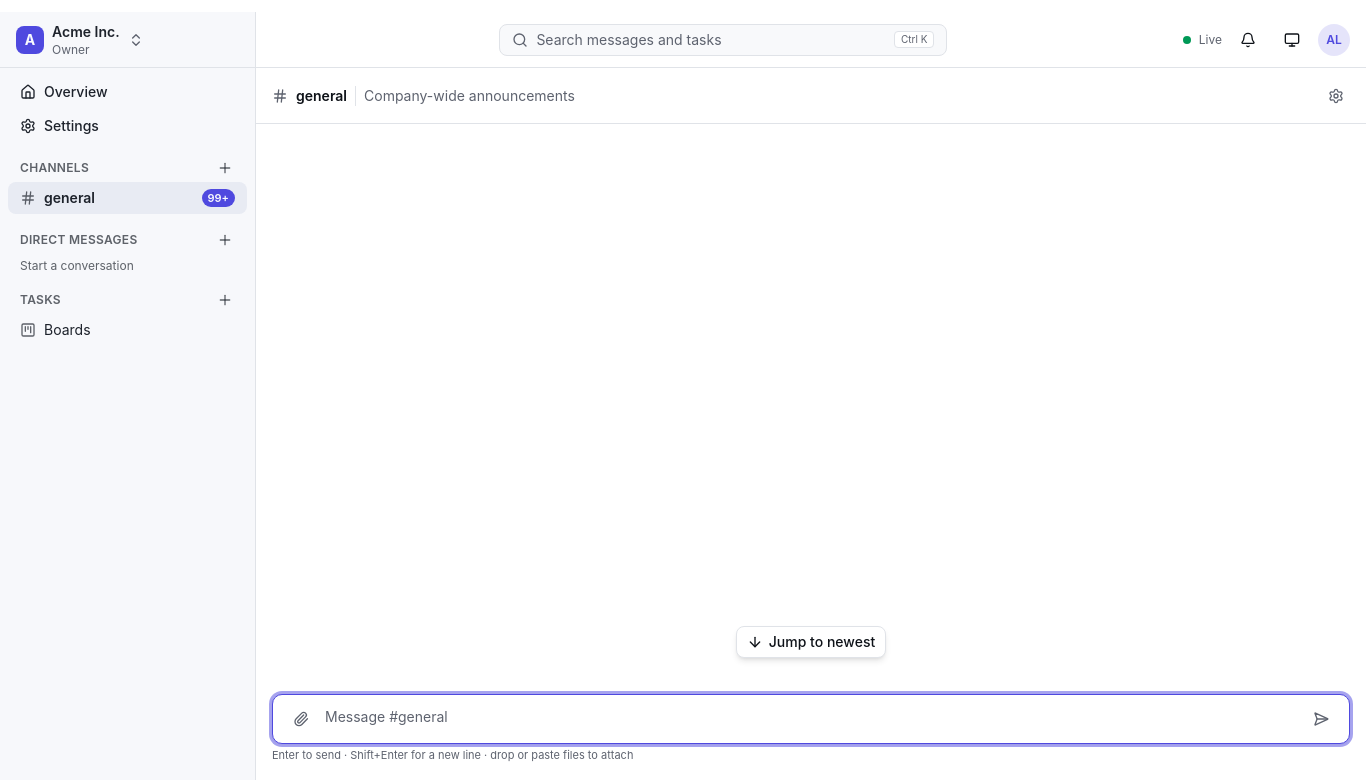
Test: virtualized timeline › jumps to unread and to the newest message
(page scrolled)
Click the button "Jump to newest" at (811, 642), box [736,626,886,658]
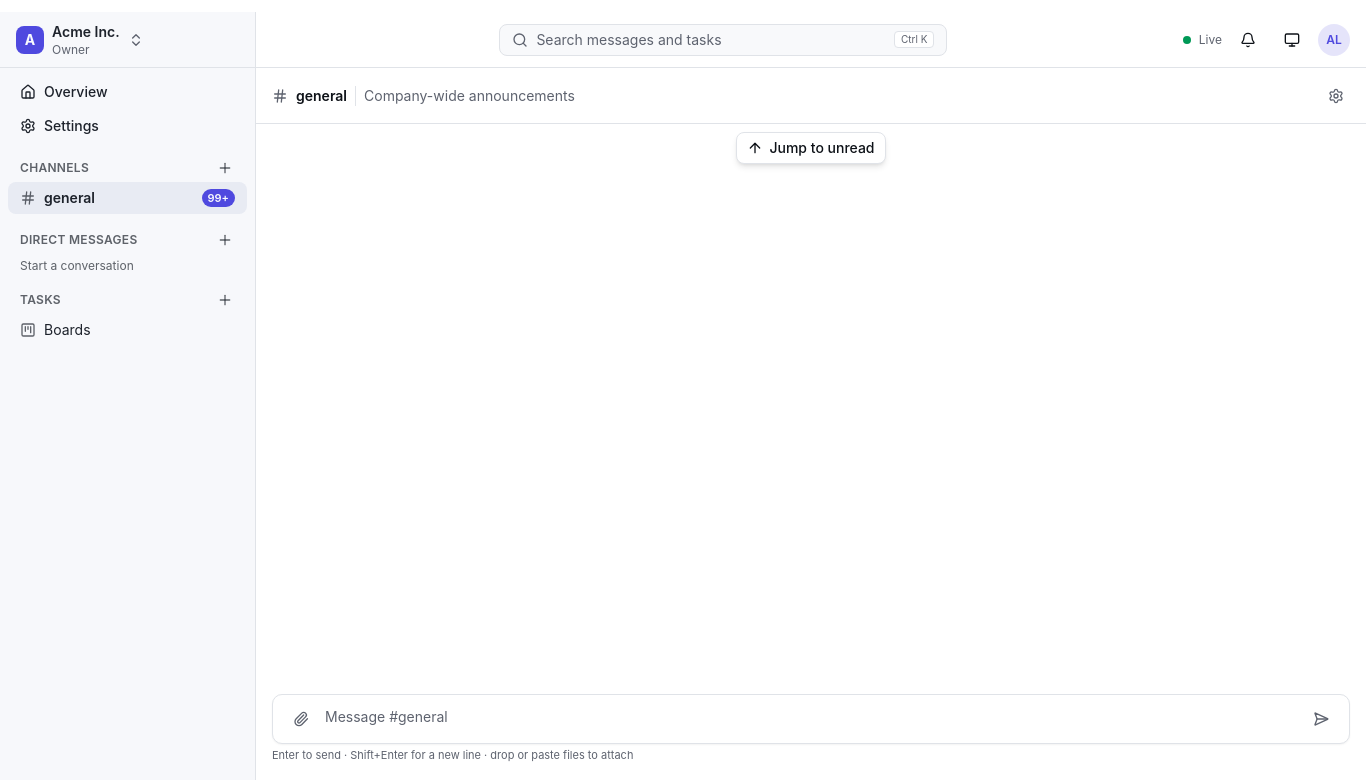
Check: the button "Jump to newest" is gone
Click the button "Jump to unread" at (811, 148), box [736,132,886,164]
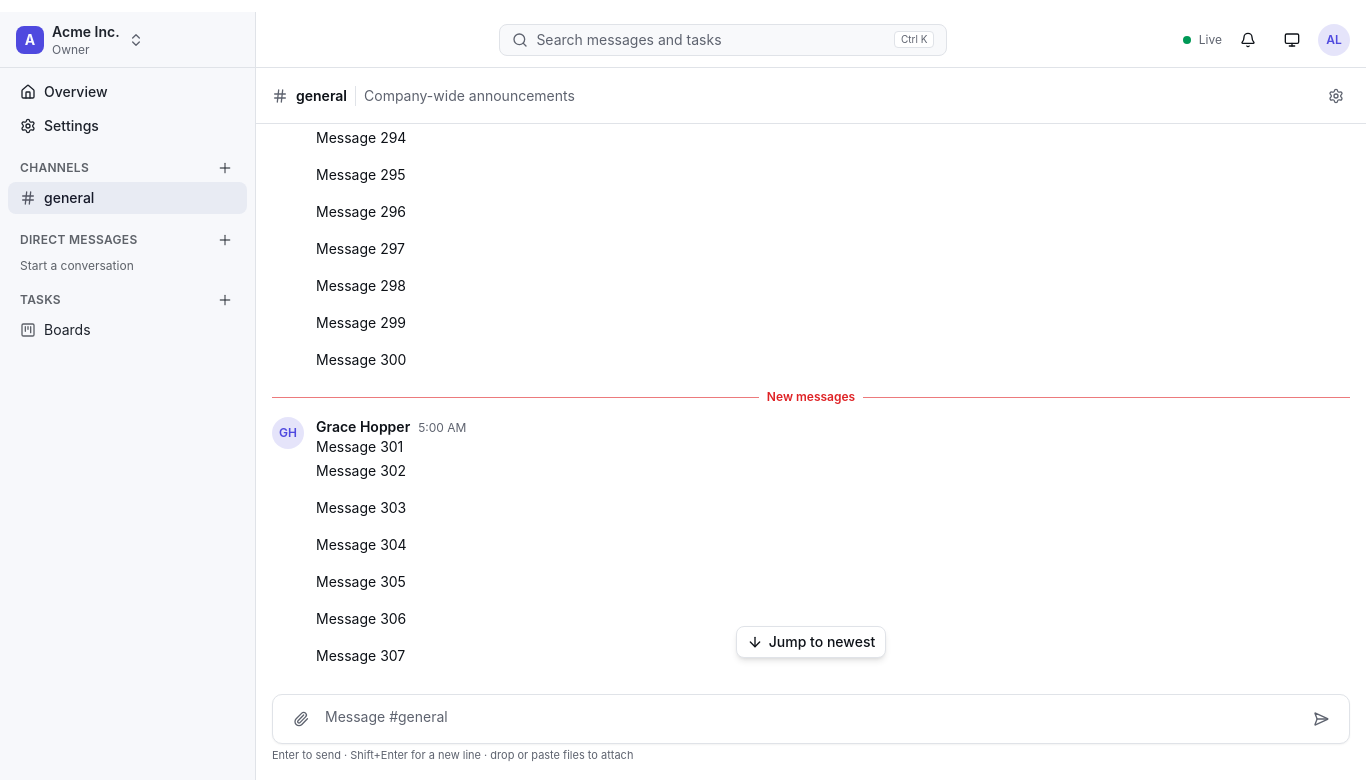
Check: the element "New messages" is shown, box [767,389,855,404]
